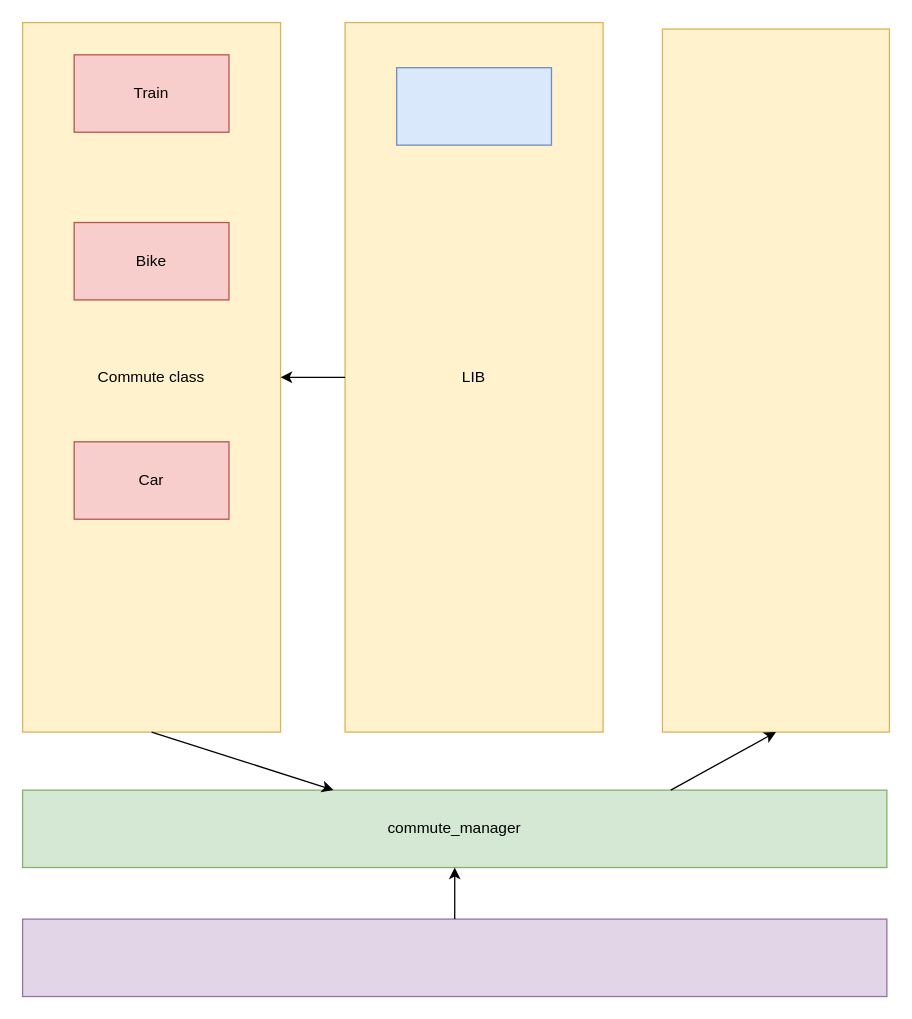
Some shapes in this 912 by 1019 pixel diagram are drawn without their labels. Here are the shapes that lost their labels. From the top down, the centre of each, then its label:
point (473, 105): Scraper
point (775, 380): email
point (454, 957): user_input
